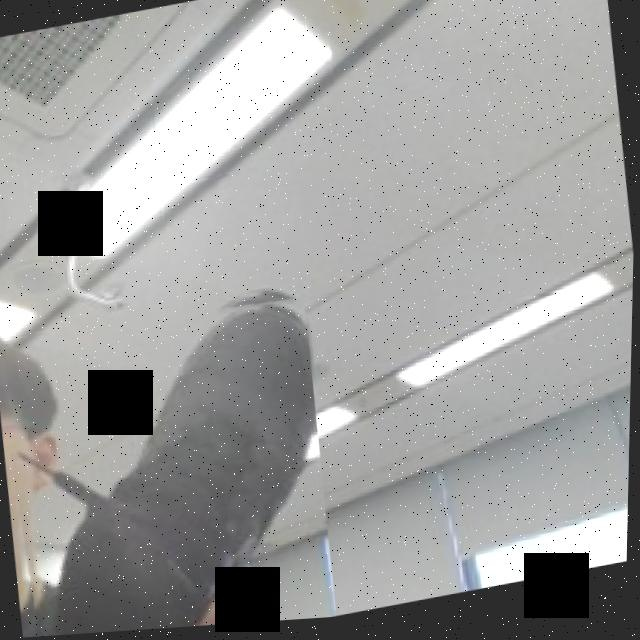shoe: (0, 283, 345, 640)
